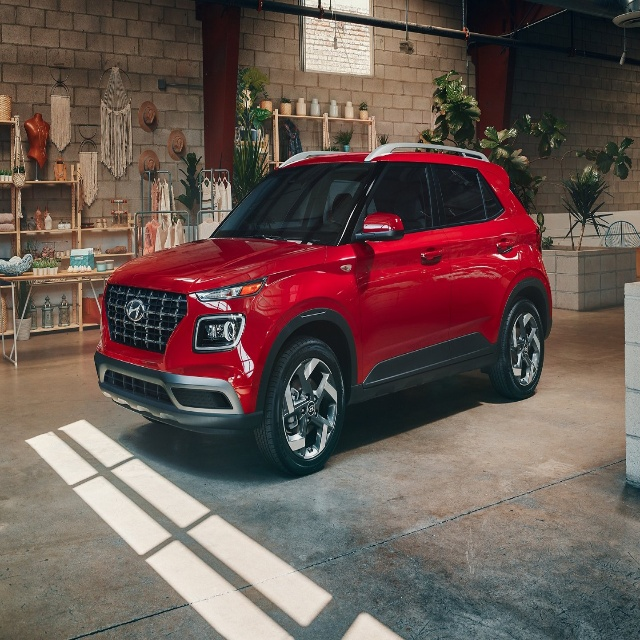Car: (93, 143, 553, 478)
